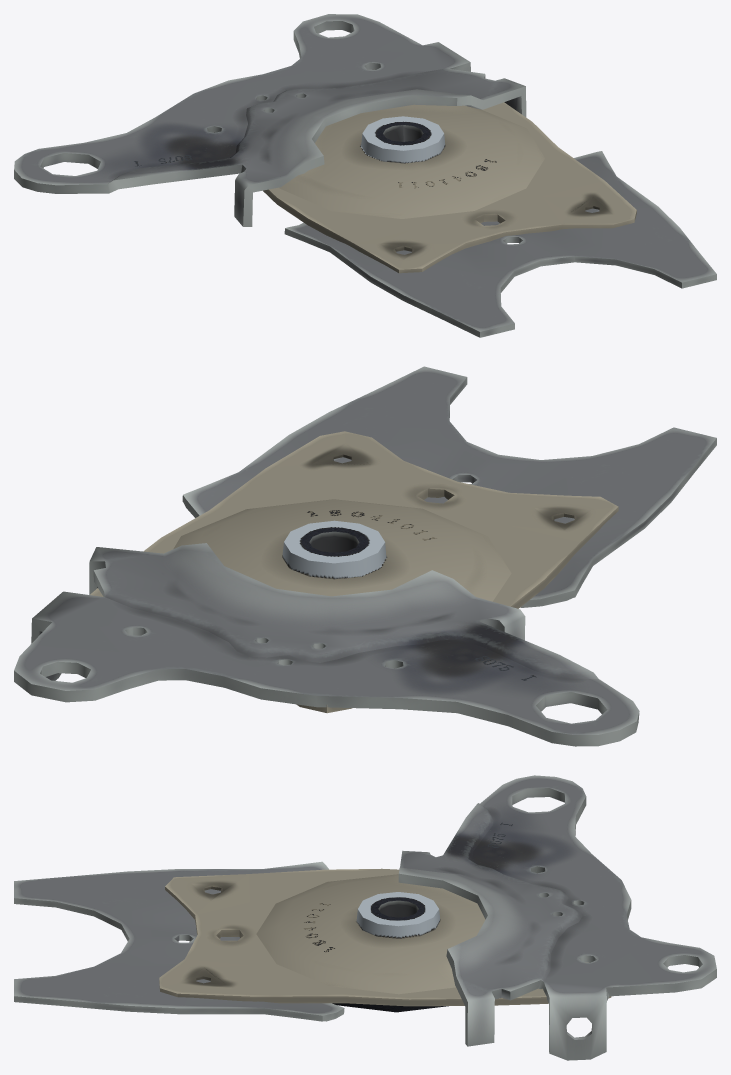
Rendered from TiaoJieQi.FBX.
3 renders of one model, top to bottom at view 1: azimuth 30°, elevation 25°; view 2: azimuth 150°, elevation 25°; view 3: azimuth 270°, elevation 25°, orthographic. The views are drawn at different scales.
Parts seen in each view (by area): view 1: YF_Model_TiaoJieQi; view 2: YF_Model_TiaoJieQi; view 3: YF_Model_TiaoJieQi.
Boxes of the visible parts, x1,y1,x2,y2 form: YF_Model_TiaoJieQi: (14, 14, 716, 337); YF_Model_TiaoJieQi: (14, 366, 716, 746); YF_Model_TiaoJieQi: (14, 775, 716, 1060).
Size of the model in its own units: 42.45 by 7 by 54.79.
